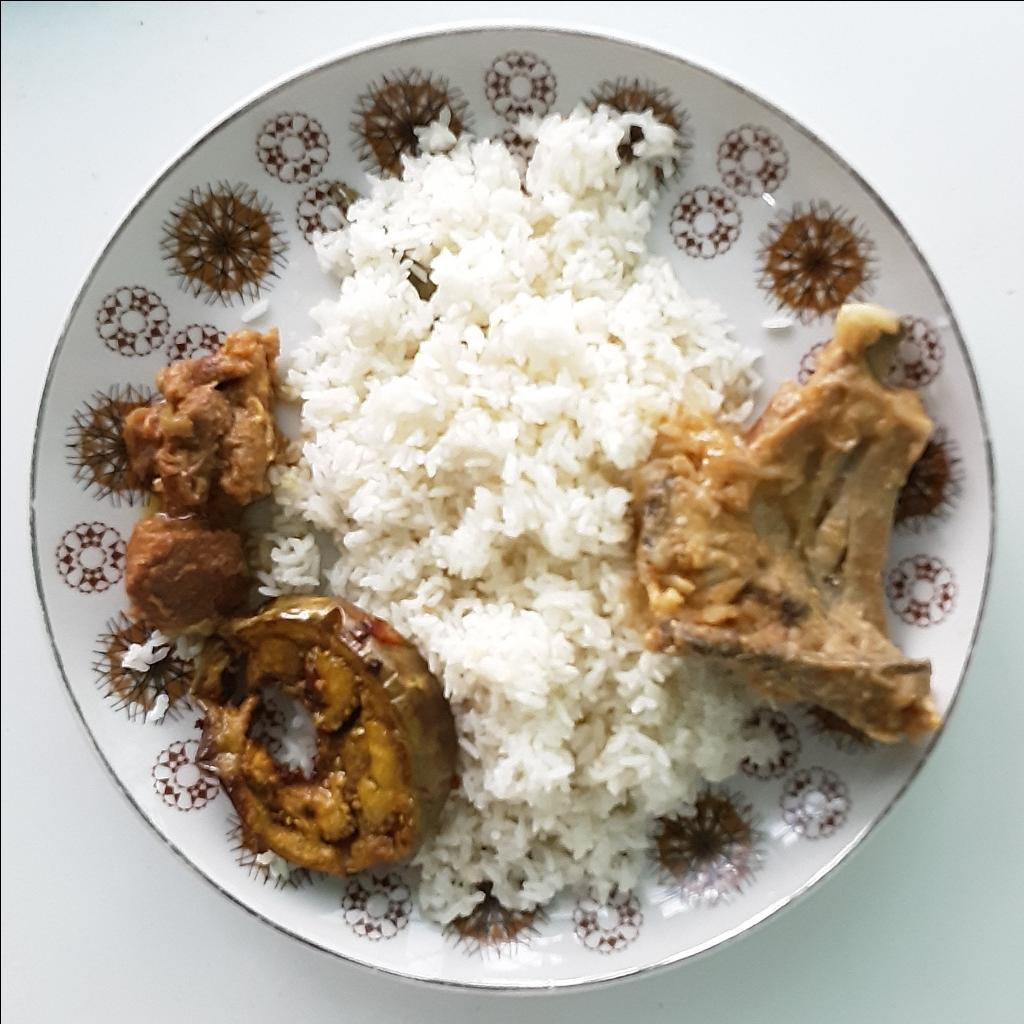beef: (117, 329, 304, 632)
begun-vaji: (187, 590, 463, 875)
chicken: (629, 308, 938, 737)
rice: (245, 103, 786, 925), (124, 634, 212, 674), (233, 293, 274, 327), (757, 311, 805, 330), (145, 691, 172, 718)
